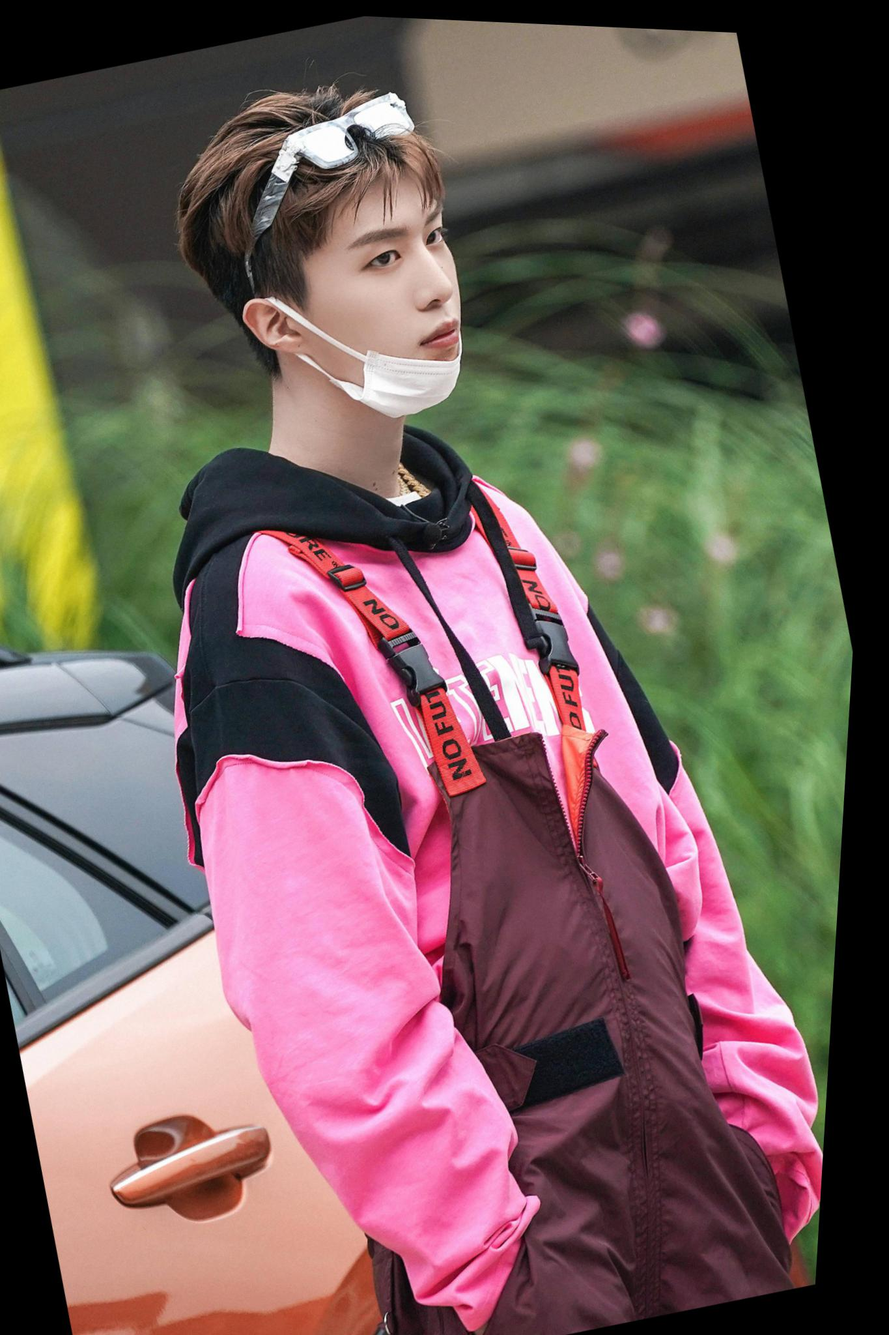WRONG: (279, 171, 492, 425)
